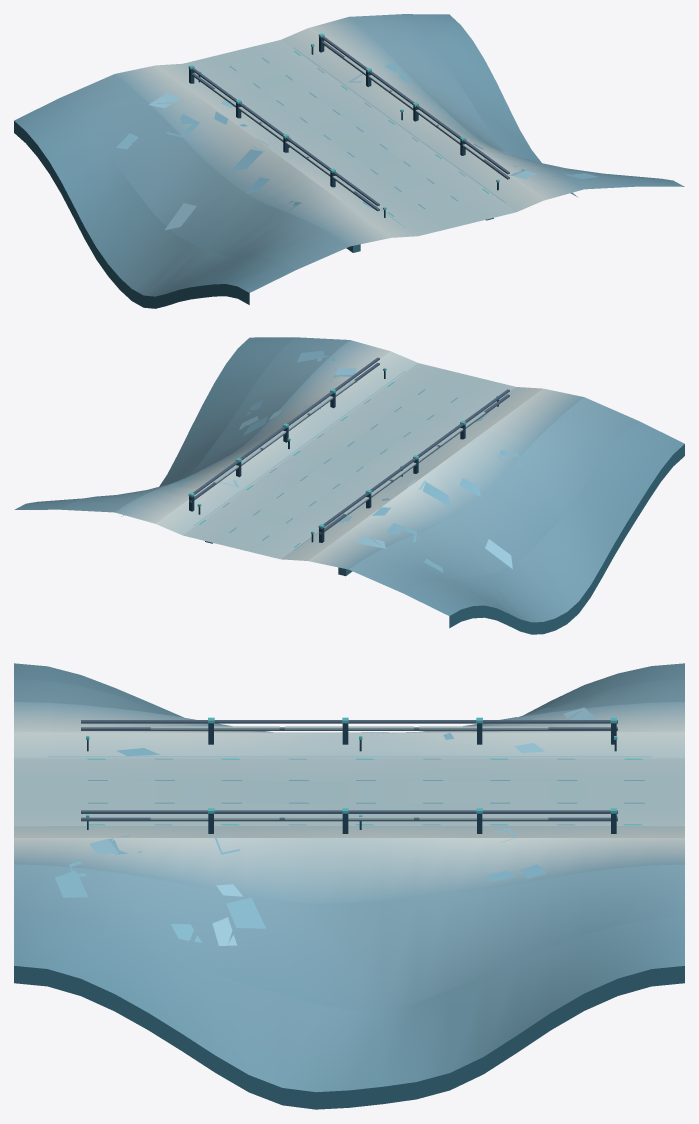
Rendered from 04-bridge.glb.
The picture shows the model from 3 angles, top to bottom: view 1: azimuth 30°, elevation 25°; view 2: azimuth 150°, elevation 25°; view 3: azimuth 270°, elevation 25°; orthographic projection. The views are drawn at different scales.
Visible parts, largest first — view 1: bridge; view 2: bridge; view 3: bridge.
Part boxes in pixels (box(x1,y1,x2,y2)): bridge: box(14, 14, 684, 308); bridge: box(14, 337, 684, 634); bridge: box(14, 663, 684, 1109).
Bounding box in the file's own units: 32 × 9.57 × 30.
